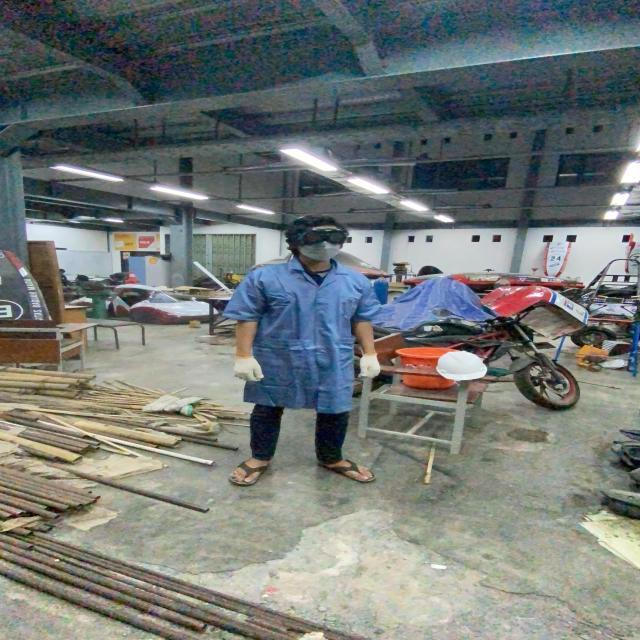glasses: (288, 225, 353, 246)
